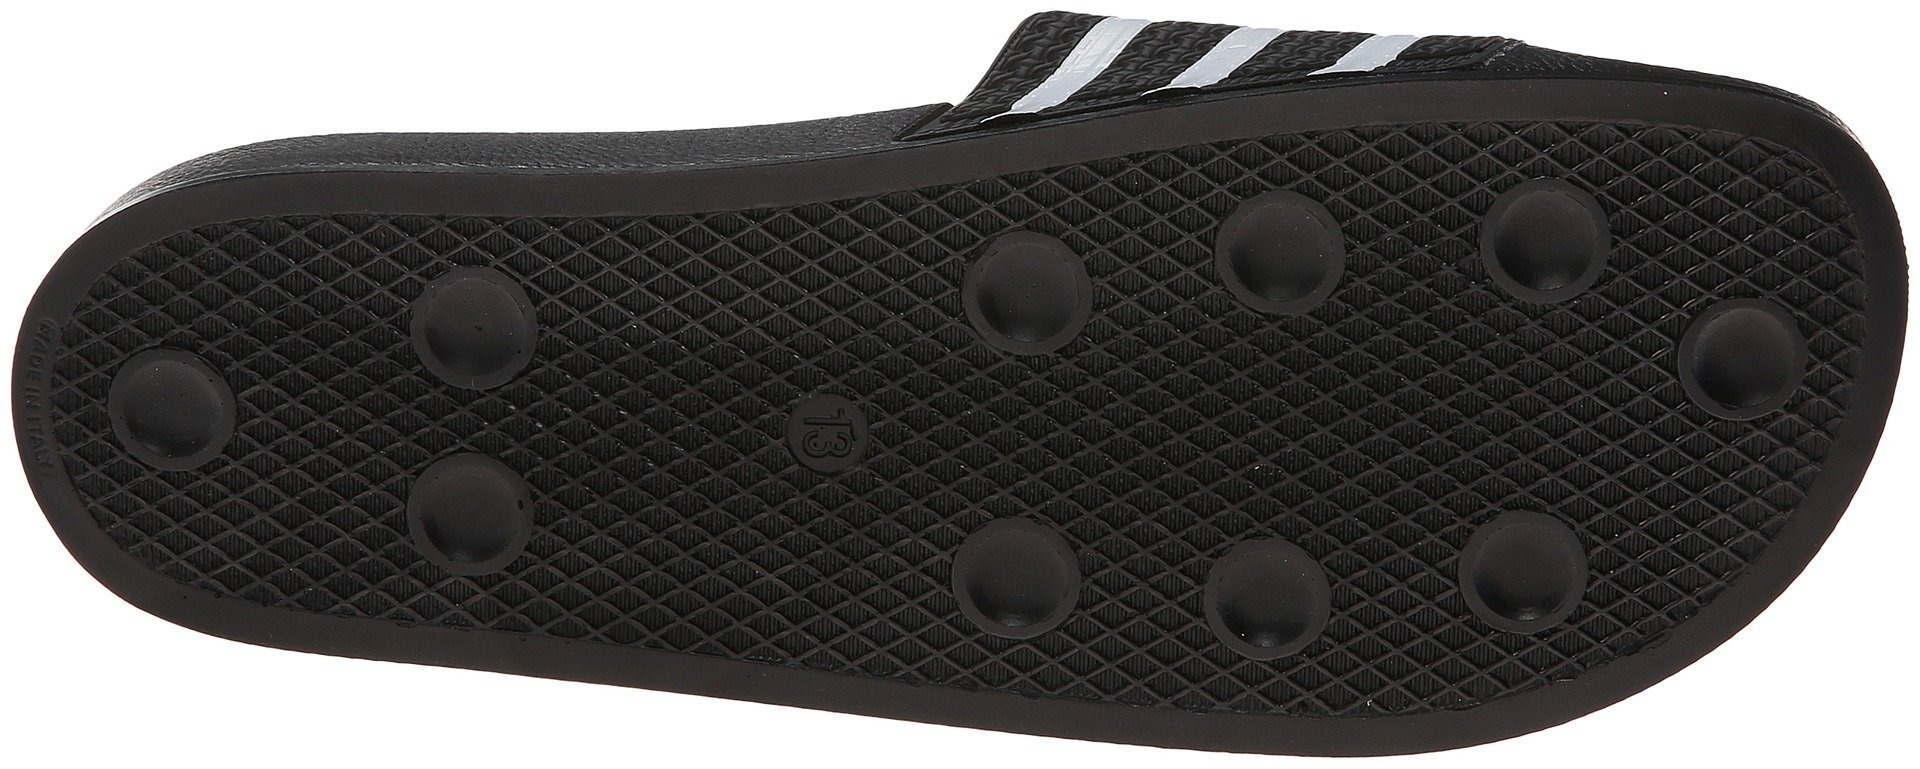circle: (389, 244, 560, 411), (1428, 498, 1608, 654), (388, 446, 553, 590), (100, 339, 255, 490), (1191, 516, 1336, 676), (1205, 184, 1365, 326), (1665, 287, 1816, 430), (955, 217, 1102, 358), (1480, 158, 1618, 309), (949, 511, 1089, 650), (765, 360, 894, 487)
line: (756, 507, 940, 673)
quad: (1389, 138, 1701, 365), (98, 306, 367, 566), (547, 227, 792, 478), (1153, 151, 1409, 389), (1622, 242, 1836, 511), (934, 195, 1187, 418), (756, 507, 940, 673), (227, 227, 403, 400), (1113, 332, 1286, 509), (551, 482, 736, 640), (1362, 318, 1531, 489), (389, 244, 560, 411), (388, 446, 553, 590), (100, 339, 255, 490), (1205, 184, 1365, 326), (1665, 287, 1816, 430), (955, 217, 1102, 358), (1480, 158, 1618, 309), (765, 360, 894, 487)
text: (765, 360, 894, 487)
